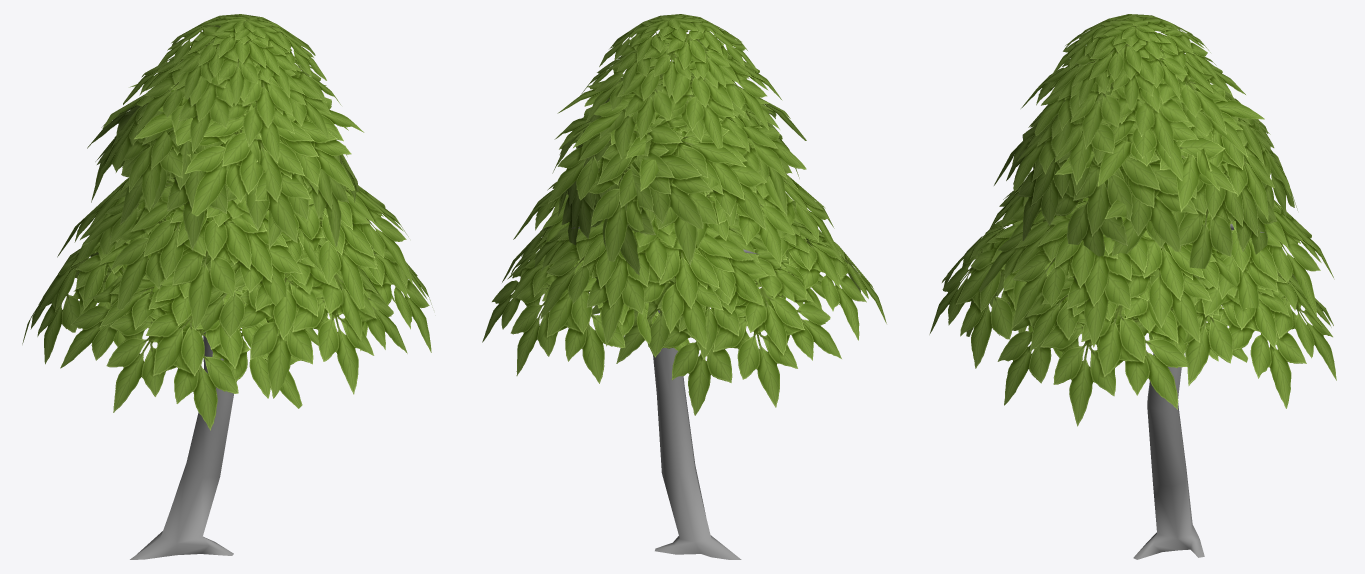
File: Environment_Mesh_Tree4.FBX
3 views of the same model, side by side, from view 1: azimuth 30°, elevation 25°; view 2: azimuth 150°, elevation 25°; view 3: azimuth 270°, elevation 25° (orthographic). The views are drawn at different scales.
Parts seen in each view (by area): view 1: Tree4; view 2: Tree4; view 3: Tree4.
Part boxes in pixels (x1=…): Tree4: x1=22, y1=14, x2=432, y2=559; Tree4: x1=482, y1=14, x2=886, y2=559; Tree4: x1=929, y1=14, x2=1336, y2=559.
Bounding box in the file's own units: 1200 × 1630 × 1167.
